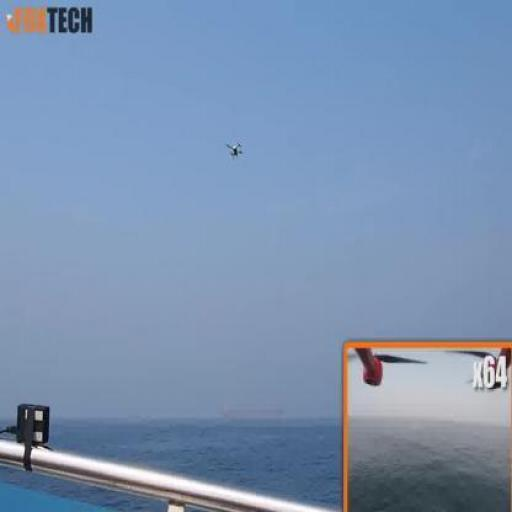drone: (226, 141, 243, 158)
